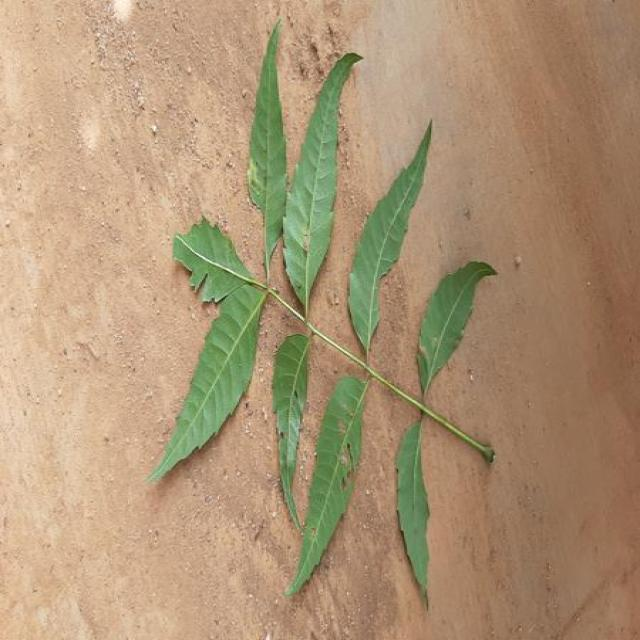neem: (148, 25, 493, 594), (417, 261, 495, 394), (397, 420, 428, 599)
